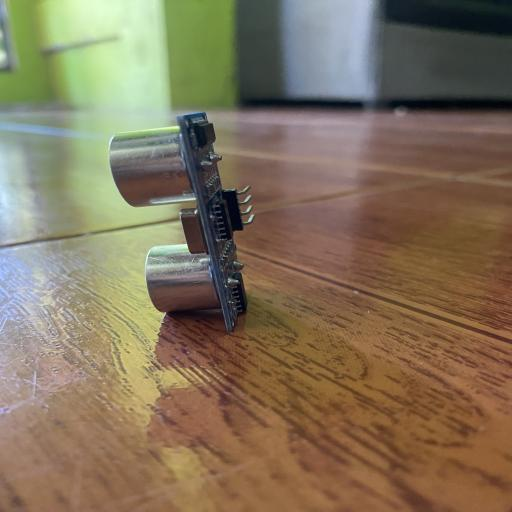Ultrasonic Sensor: (107, 109, 257, 335)
